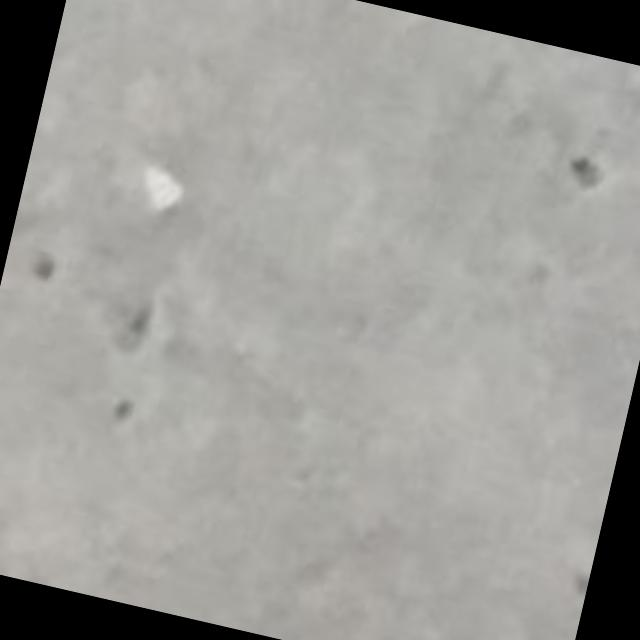peeling plaster: (141, 164, 185, 215)
